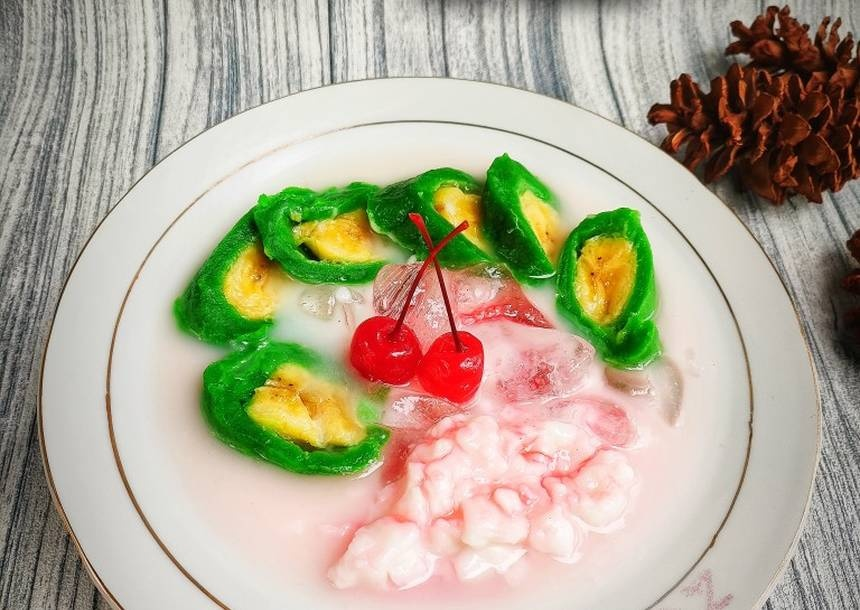pisang_ijo: (190, 323, 407, 472), (558, 203, 677, 372)
